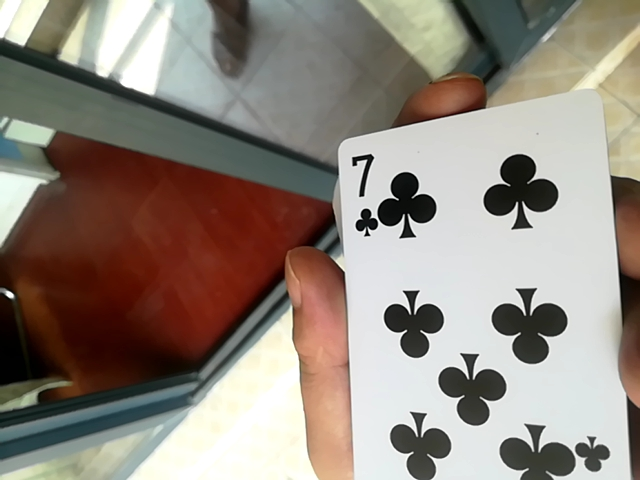mh 7: (322, 105, 638, 478)
